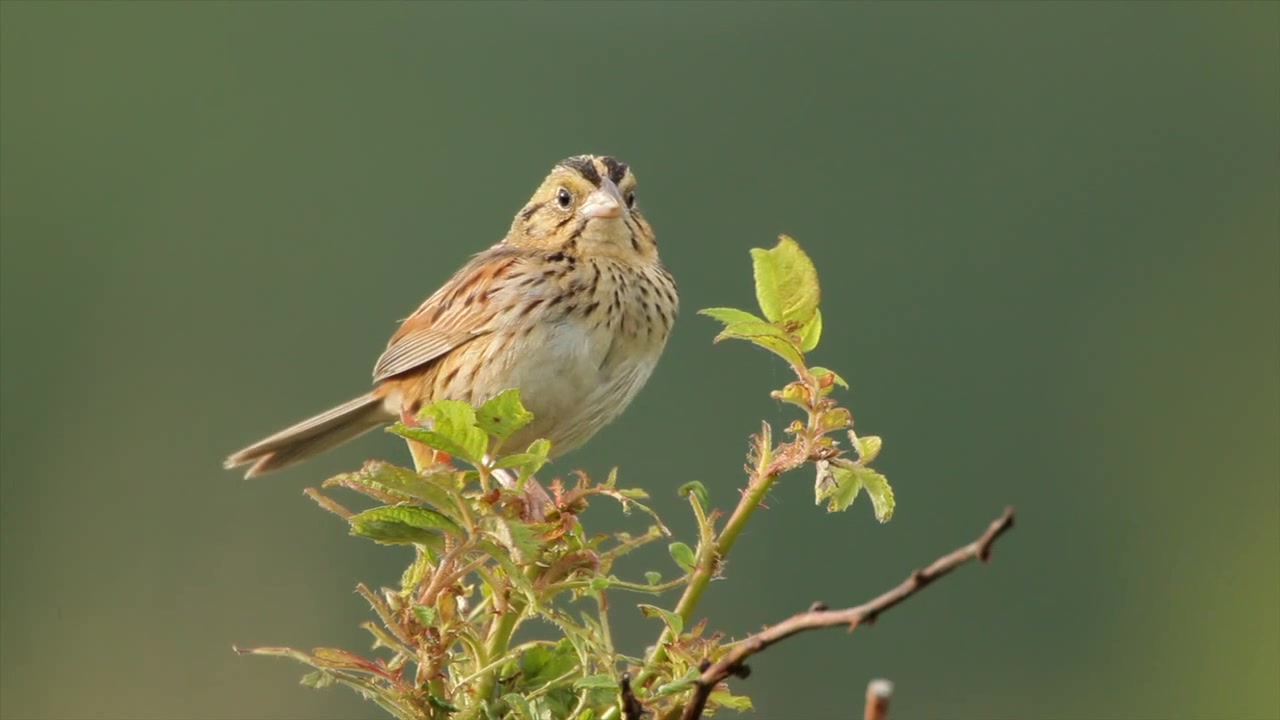bird: (224, 155, 681, 522)
